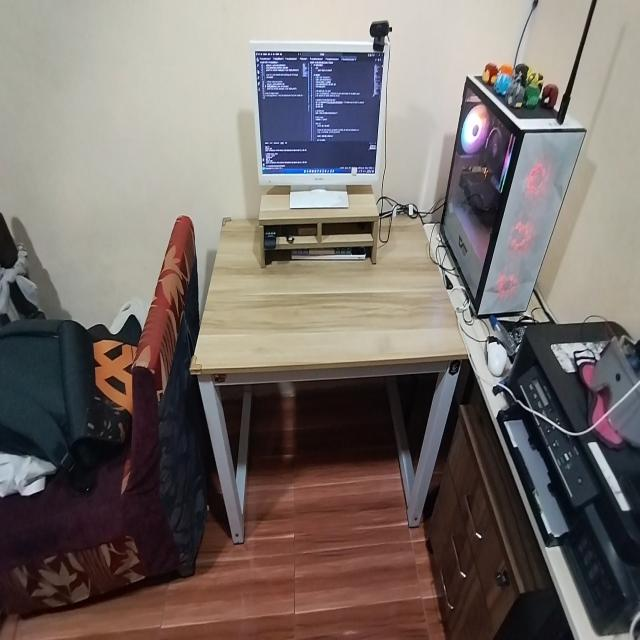table: (185, 217, 472, 526)
